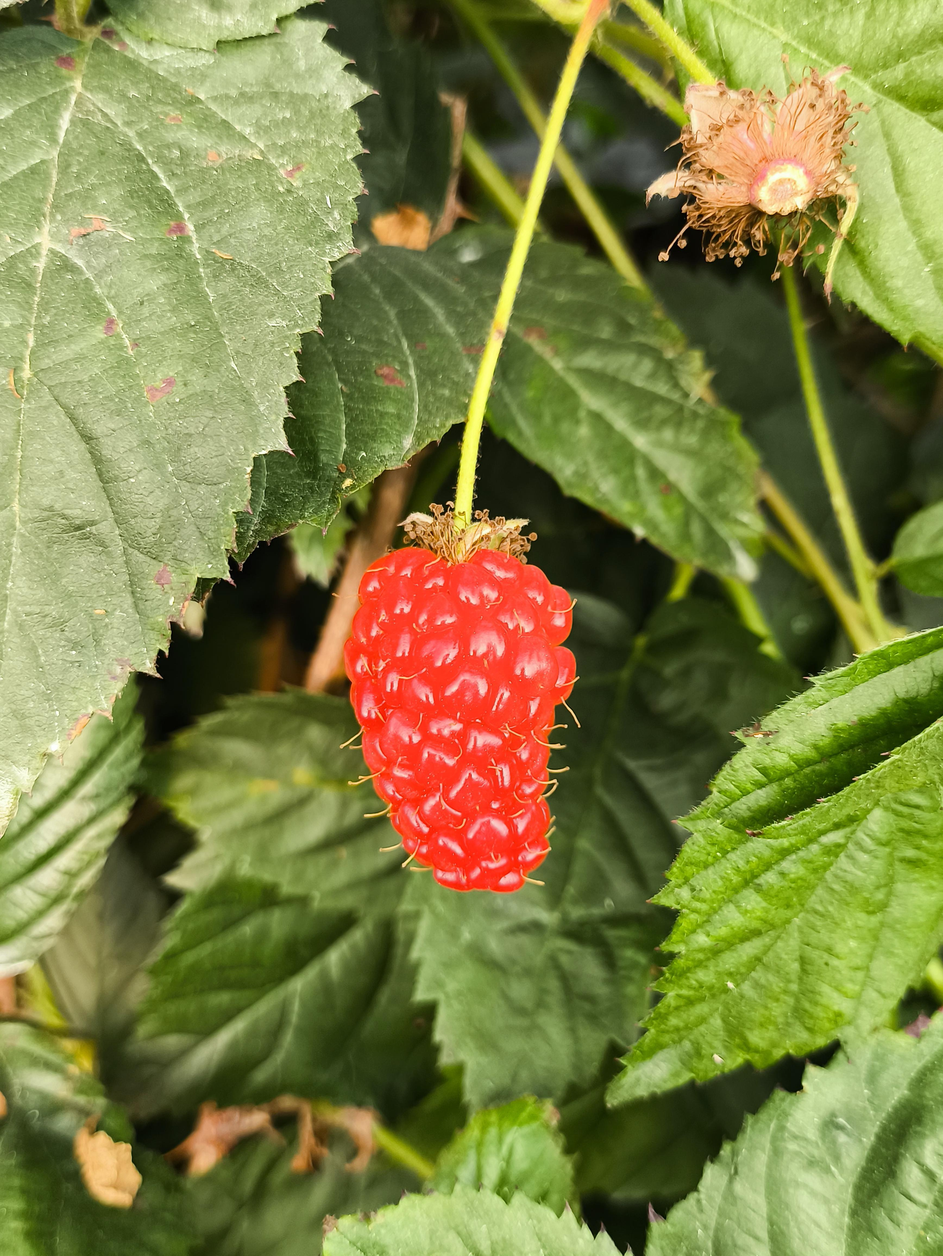naranja: (344, 535, 576, 893)
